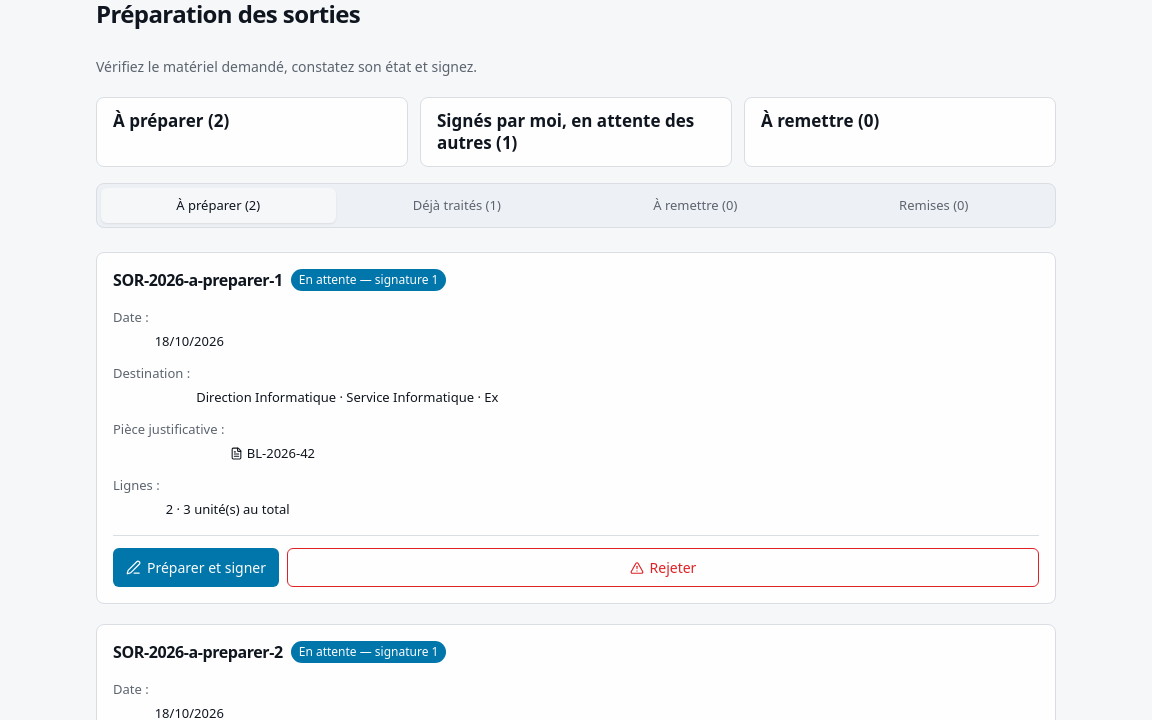
Test: Espace magasinier — panneau de vérification et signature 1 › E3 bis : une ligne « Défaillant » exige une remarque
The width and height of the screenshot is (1152, 720).
Click the button "Préparer et signer".
click(196, 568)  # box [113,548,279,588]
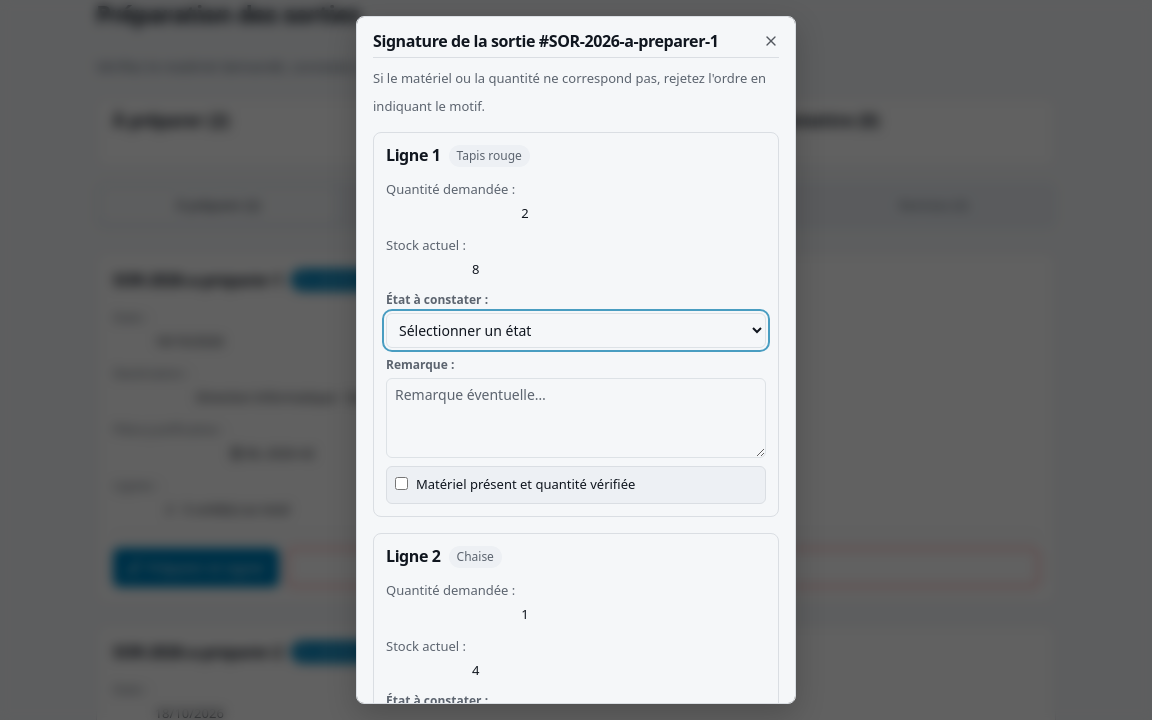
Select "Défaillant" in the dropdown labelled "État à constater :" at (576, 330), box [386,313,766,348]
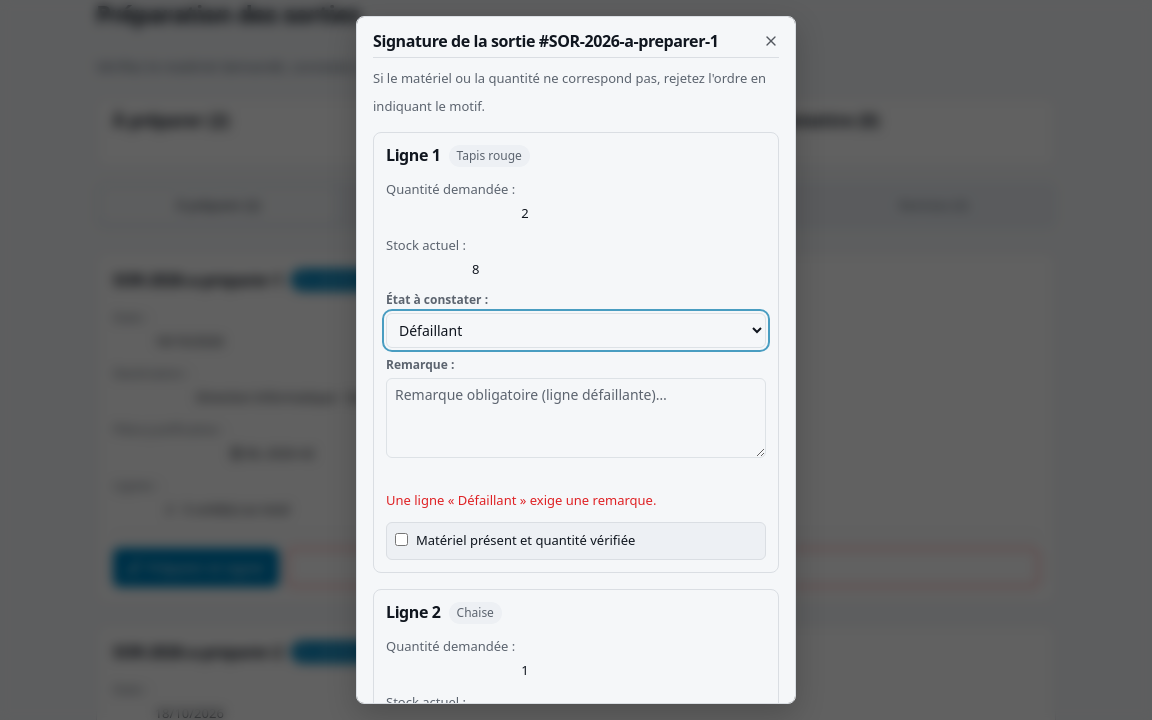
Check: the text "Une ligne « Défaillant » exige une remarque." is shown, box [386,491,656,509]
Note: Une remarque lève le blocage (les cases et l'autre état suivent).
Type "Écran fissuré" into the text box labelled "Remarque :".
click(576, 418); type("Écran fissuré")  # box [386,378,766,458]
(page scrolled)
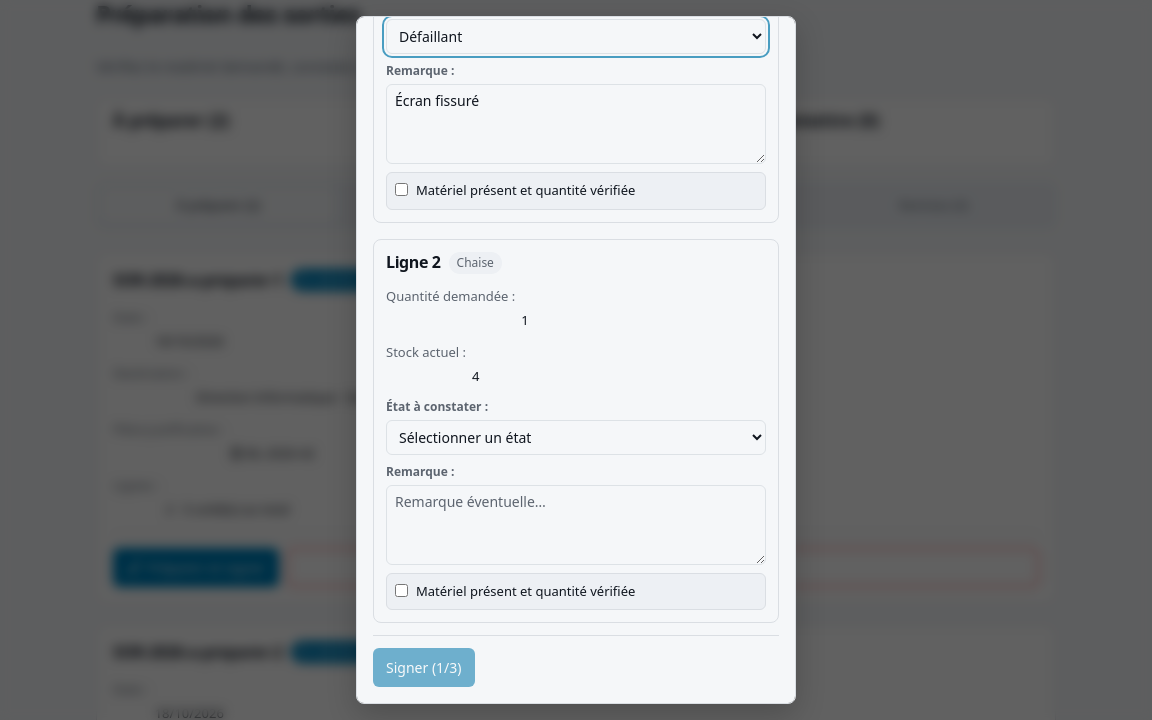
Select "Bon" in the dropdown labelled "État à constater :" below "Stock actuel :" at (576, 437), box [386,420,766,454]
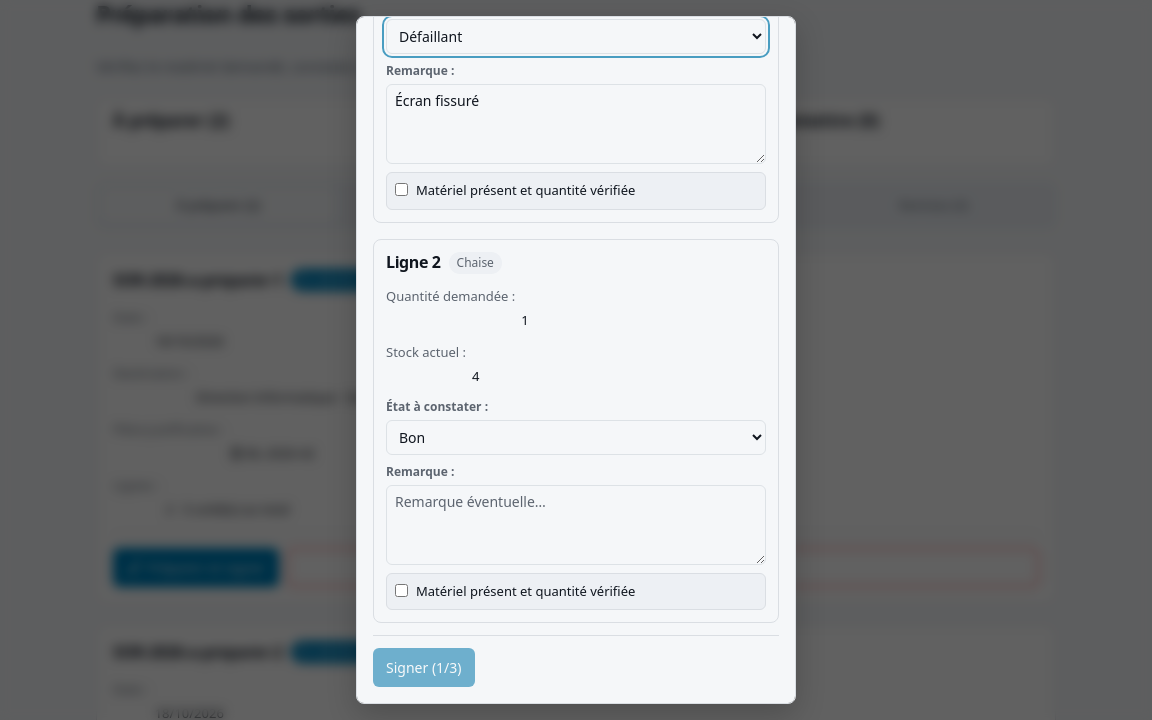
Click the checkbox labelled "Matériel présent et quantité vérifiée" below "État à constater :".
click(402, 190)  # box [395,183,408,196]
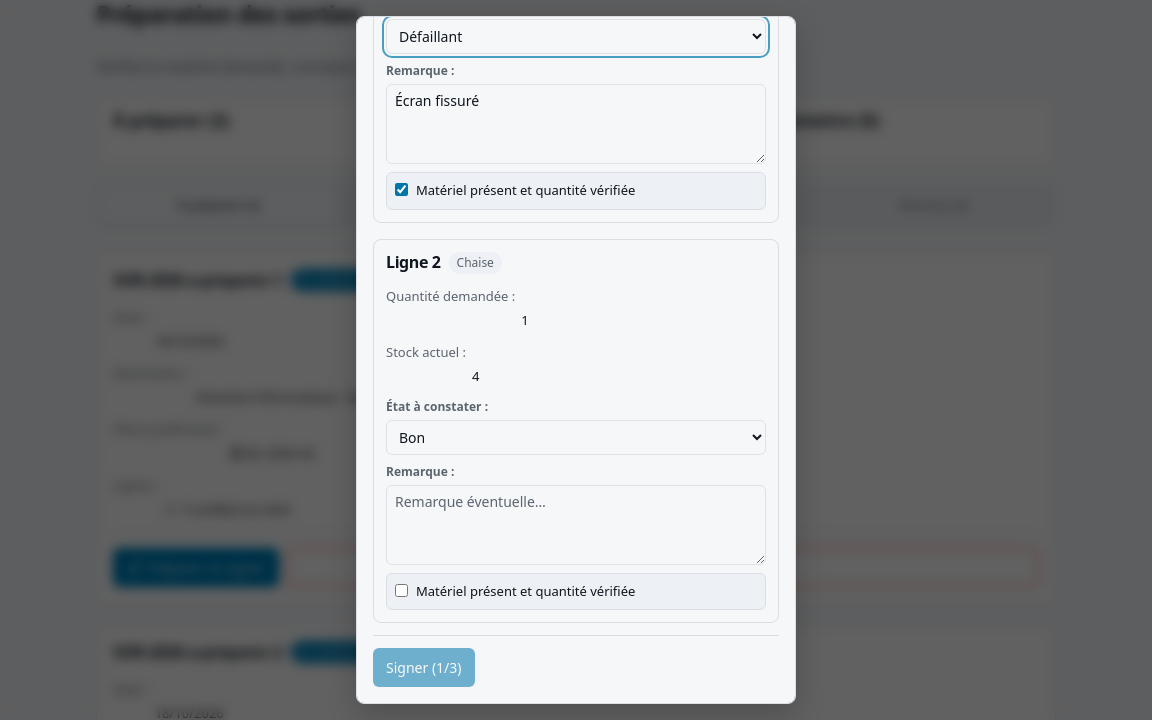
Click the checkbox labelled "Matériel présent et quantité vérifiée" below "État à constater :".
click(402, 590)  # box [395,584,408,596]
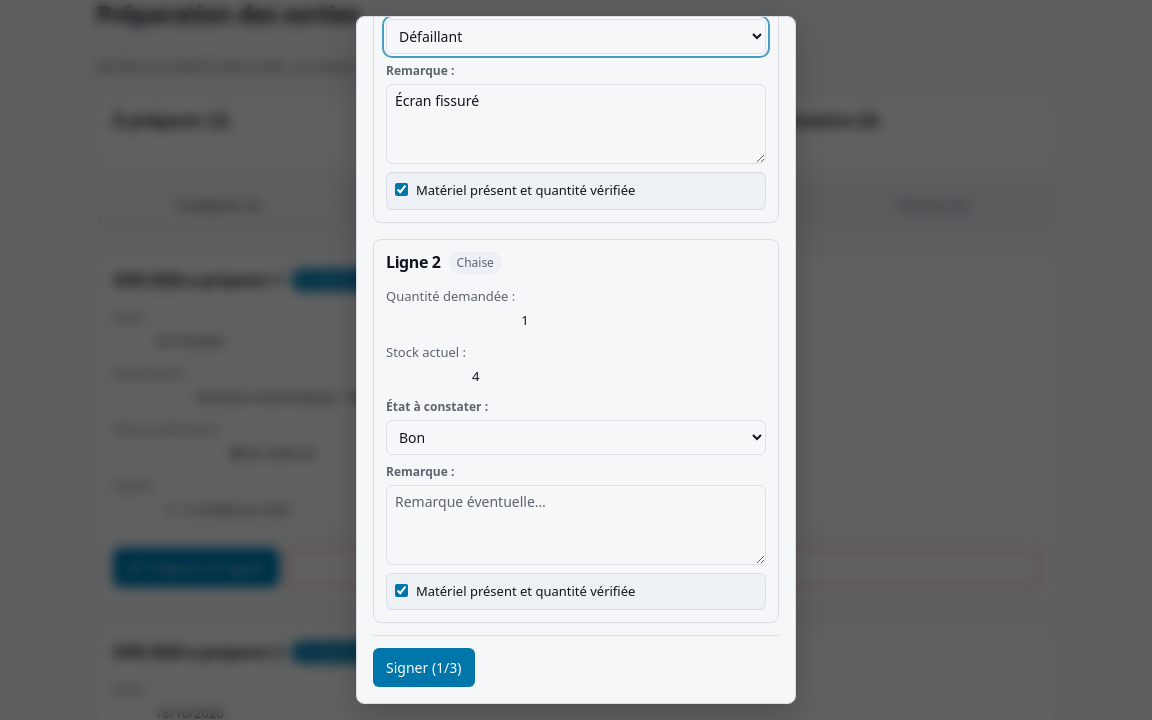
Check: the button "Signer (1/3)" is enabled, box [373,648,474,687]
